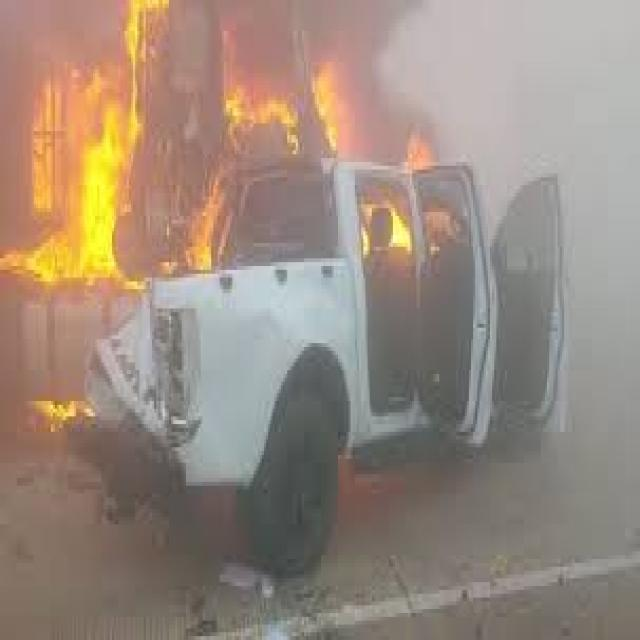fire: (2, 4, 175, 274), (222, 42, 338, 154), (177, 181, 224, 270), (32, 382, 101, 439)
